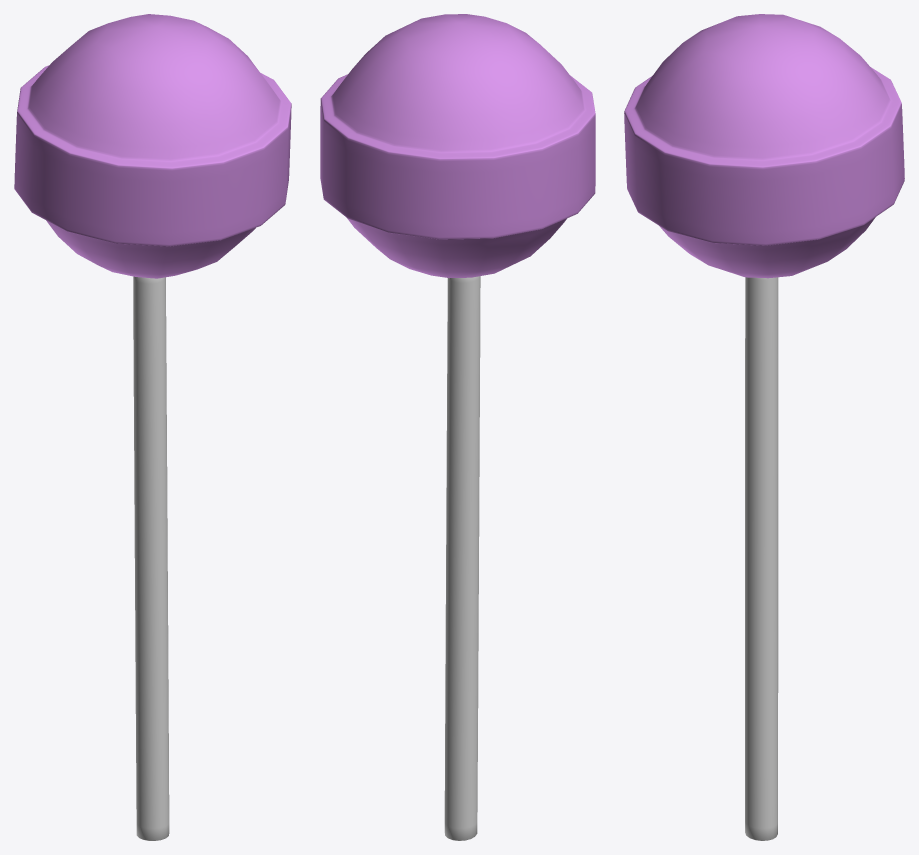
File: Lollipop.glb
The picture shows the model from 3 angles, left to right: view 1: azimuth 30°, elevation 25°; view 2: azimuth 150°, elevation 25°; view 3: azimuth 270°, elevation 25°; orthographic projection.
Parts seen in each view (by area): view 1: lollipop; view 2: lollipop; view 3: lollipop.
Boxes of the visible parts, left/top/right/bottom form: lollipop: left=14, top=14, right=291, bottom=840; lollipop: left=320, top=14, right=595, bottom=840; lollipop: left=624, top=14, right=904, bottom=840.
Size of the model in its own units: 0.9587 by 3.07 by 0.9636.
